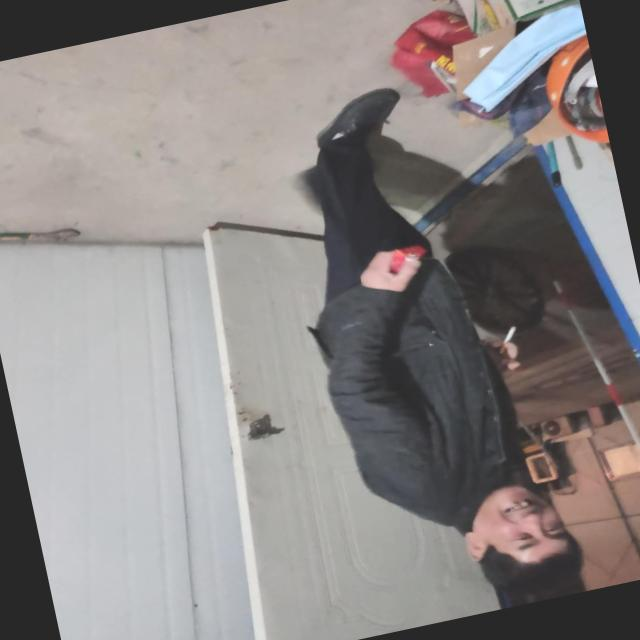cigarette: (494, 319, 526, 354)
